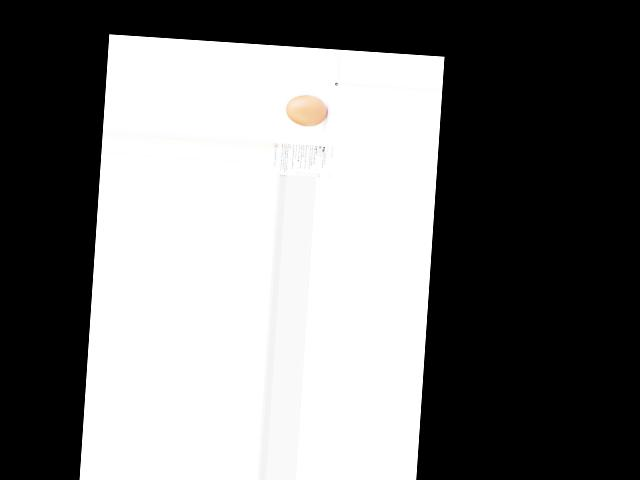egg: (285, 94, 328, 127)
